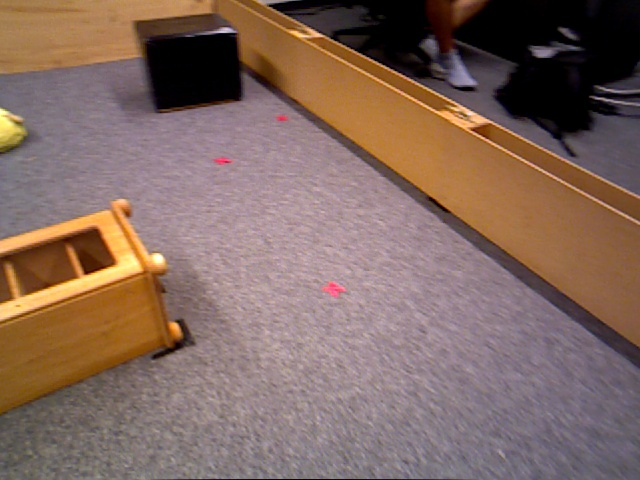grasp: (1, 109, 29, 157)
push: (134, 21, 243, 108)
